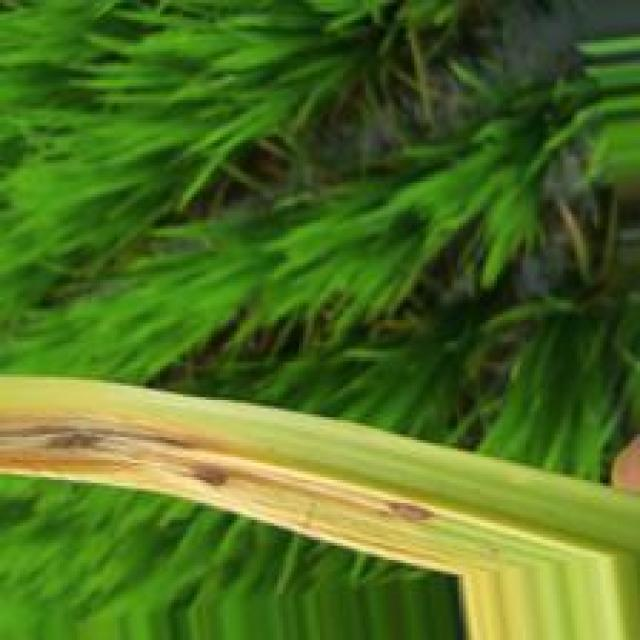Rice Tungro: (0, 421, 109, 453), (175, 453, 234, 493), (379, 495, 440, 527)
